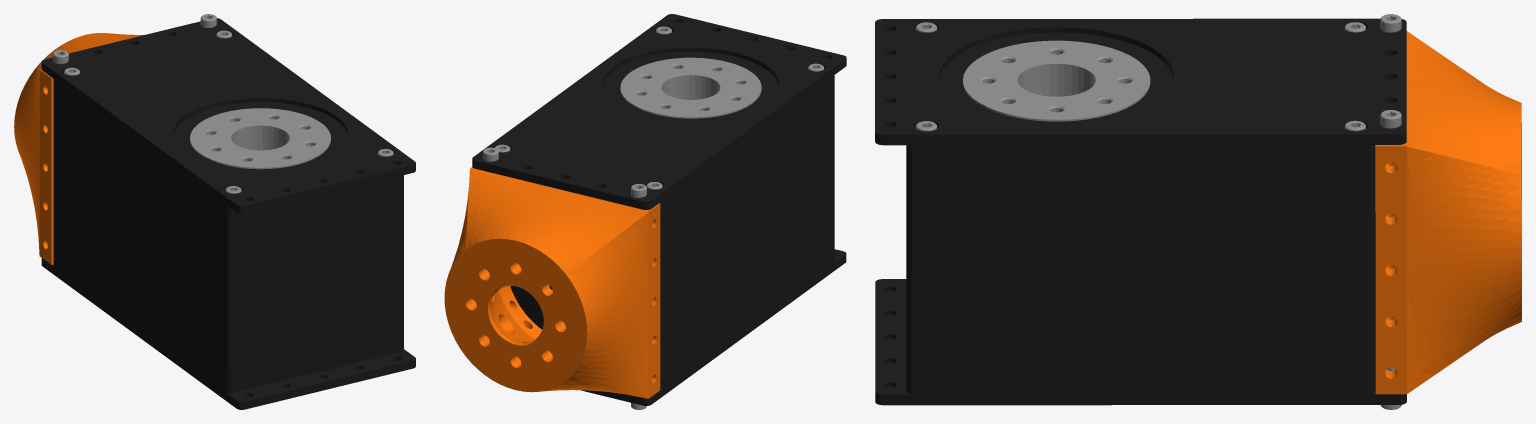
File: Sixi3.obj
3 views of the same model, side by side, from view 1: azimuth 30°, elevation 25°; view 2: azimuth 150°, elevation 25°; view 3: azimuth 270°, elevation 25° (orthographic). The views are drawn at different scales.
Visible parts, largest first — view 1: J5-6_J4; view 2: J5-6_J4; view 3: J5-6_J4.
Part boxes in pixels (left/top/right/bottom): J5-6_J4: left=14, top=14, right=415, bottom=409; J5-6_J4: left=444, top=14, right=846, bottom=409; J5-6_J4: left=875, top=14, right=1521, bottom=409.
Size of the model in its own units: 7 by 8.24 by 16.55.
